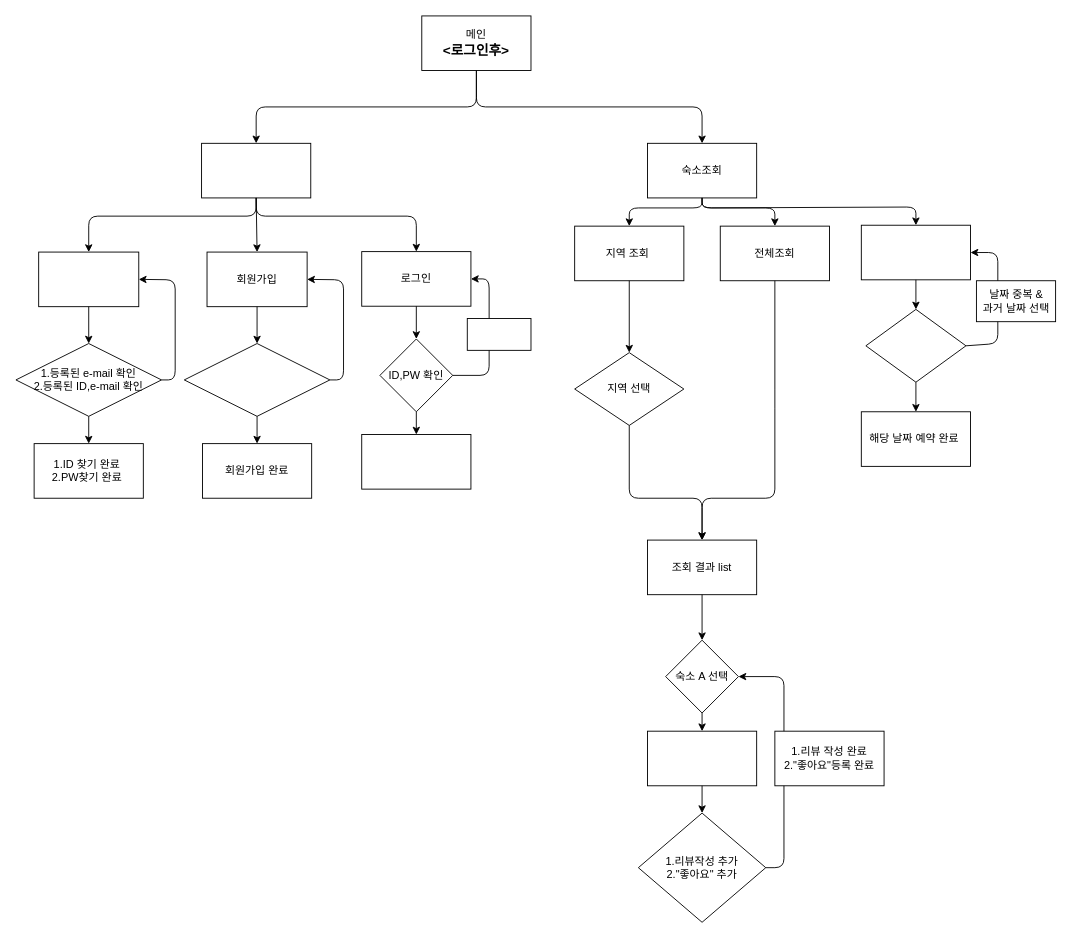
This 1072x938 diagram has some shape labels left out. The centre of each missing label's shape, as x and y in pixels:
1.ID 찾기 2.PW 찾기: (x=88, y=279)
1.ID중복조회 2.비밀번호 확인 3.E-mail 확인: (x=256, y=379)
A 숙소 정보창: (x=702, y=758)
계정<=>날짜 종복조회: (x=915, y=345)
날짜 선택: (x=915, y=252)
로그인 완료: (x=416, y=461)
로그인 화면: (x=256, y=170)
로그인실패: (x=498, y=334)
